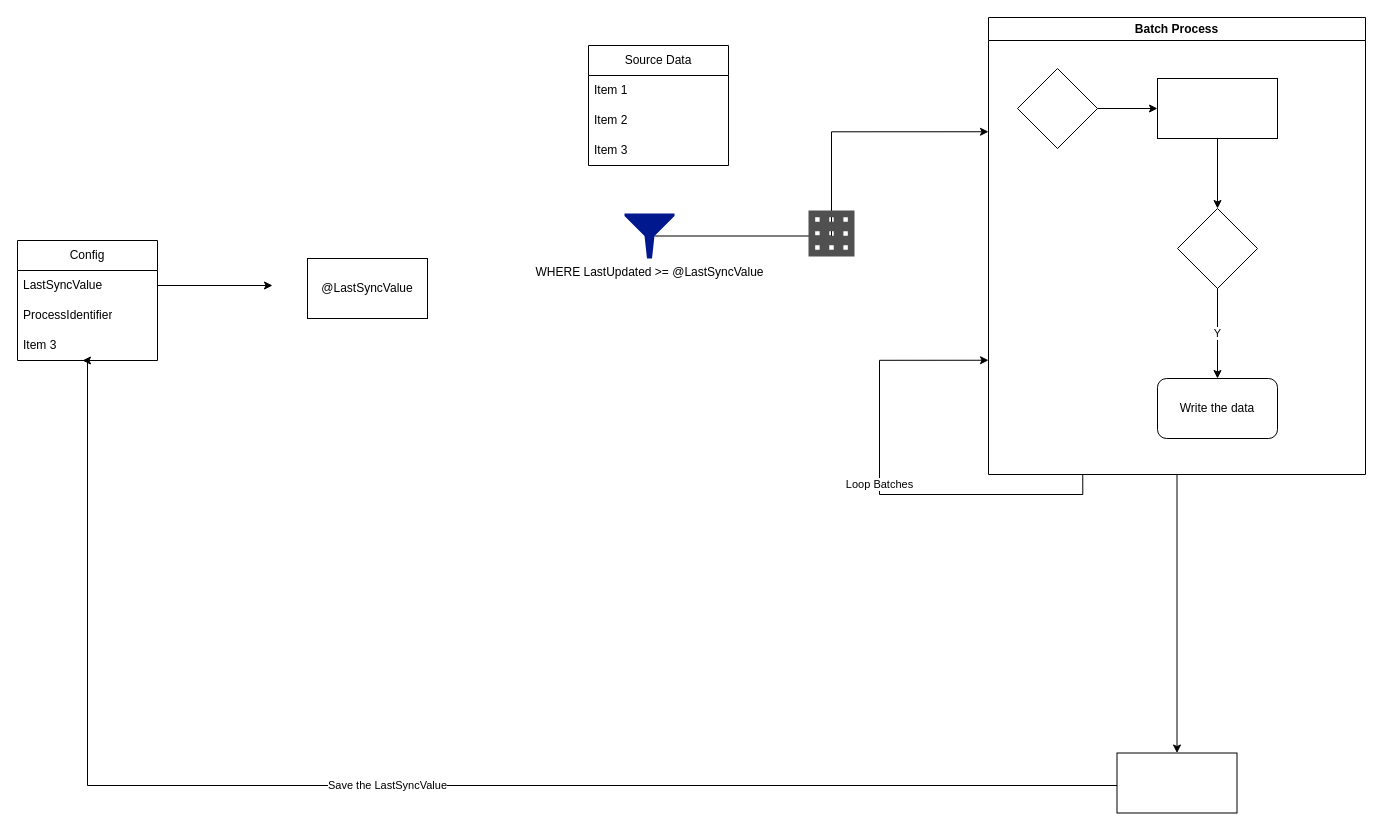
This 1383x831 diagram has some shape labels left out. Each missing label, with the centre of its shape:
"Get New Last Sync Value" goes at point 1176,782.
"has changed" goes at point 1217,248.
"Separate batches" goes at point 831,233.
